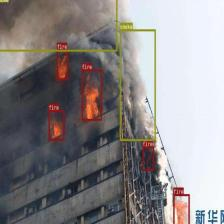fire: (81, 69, 102, 120), (172, 193, 189, 224), (48, 110, 64, 140), (56, 49, 68, 80), (142, 146, 154, 170)
smoke: (0, 0, 117, 51), (119, 29, 156, 141)
